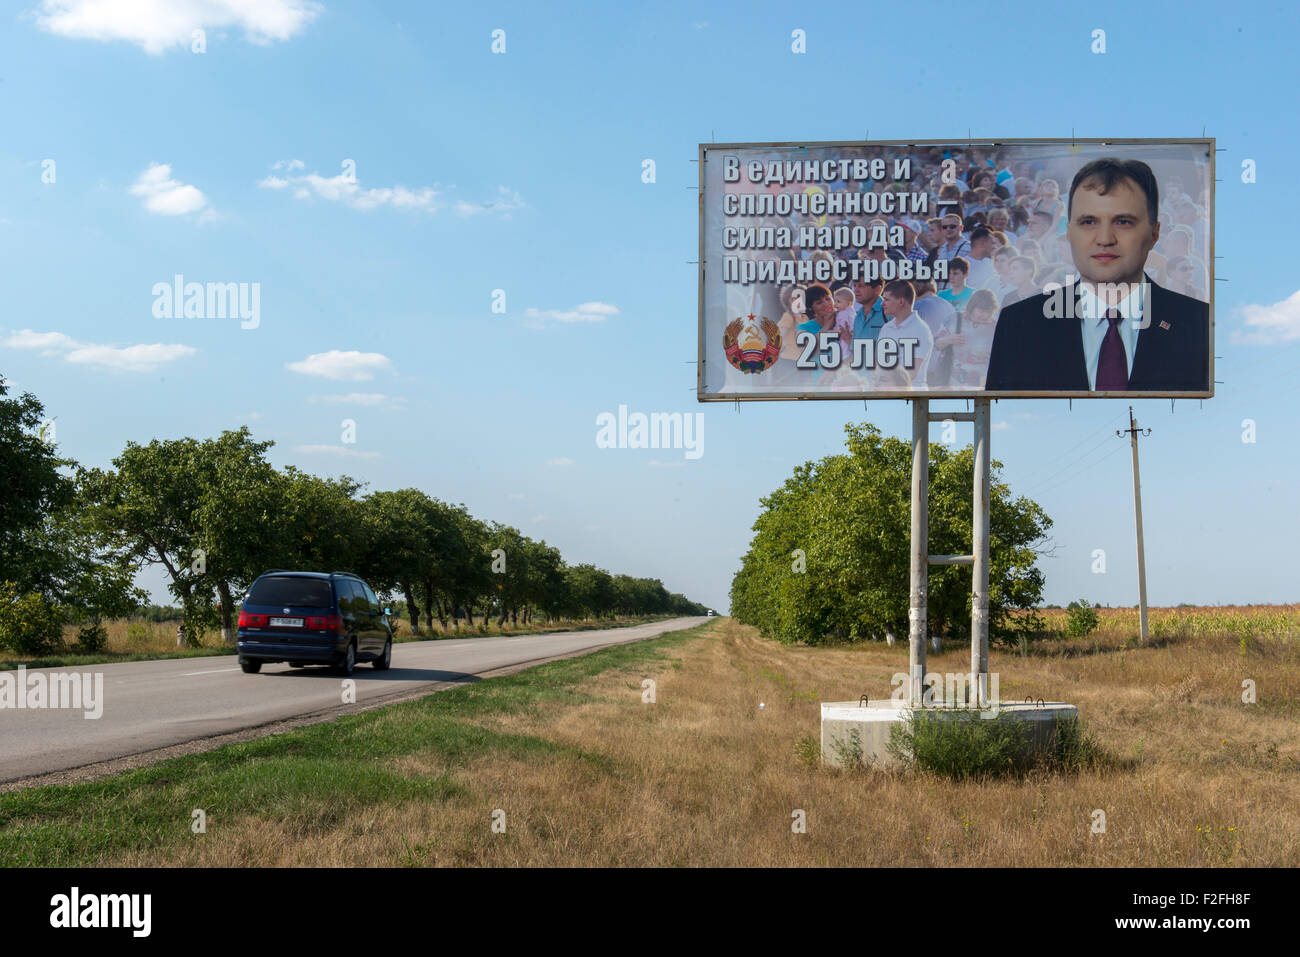poster: (693, 134, 1221, 403)
